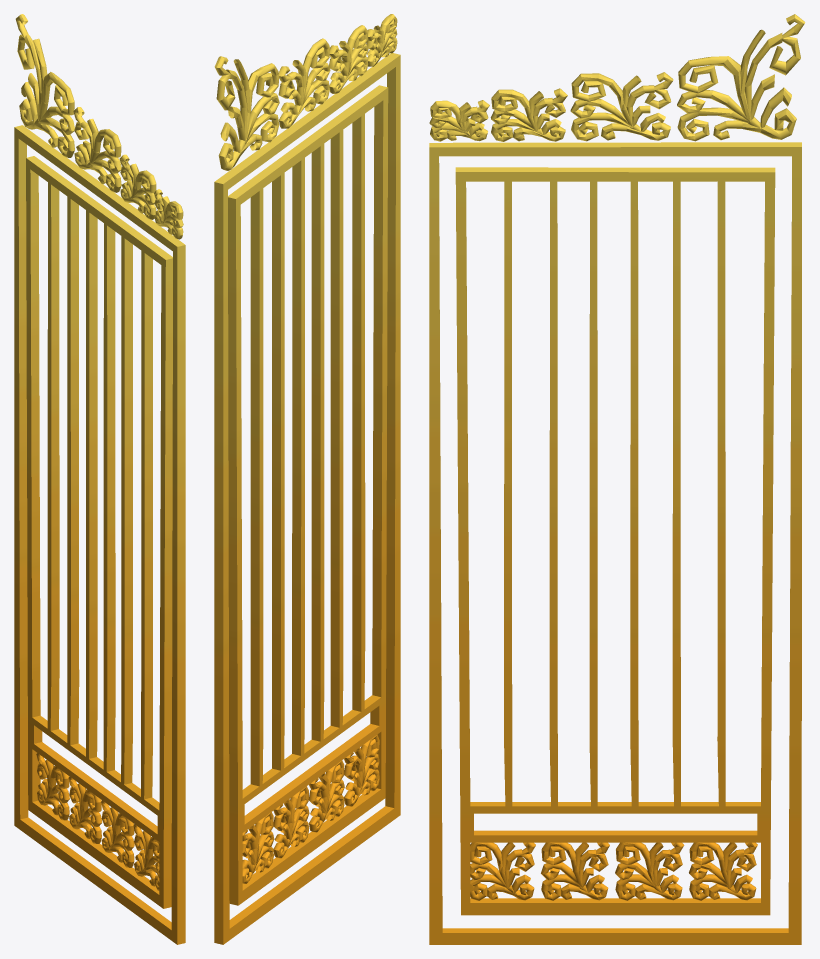
The model's file is GATE_L.fbx.
3 views of the same model, side by side, from view 1: azimuth 30°, elevation 25°; view 2: azimuth 150°, elevation 25°; view 3: azimuth 270°, elevation 25° (orthographic). The views are drawn at different scales.
Visible parts, largest first — view 1: polySurface1615; view 2: polySurface1615; view 3: polySurface1615.
Part boxes in pixels (box(x1,y1,x2,y2)): polySurface1615: box(14, 14, 185, 944); polySurface1615: box(214, 14, 400, 944); polySurface1615: box(429, 14, 805, 944).
Size of the model in its own units: 11.6 by 1090 by 400.
